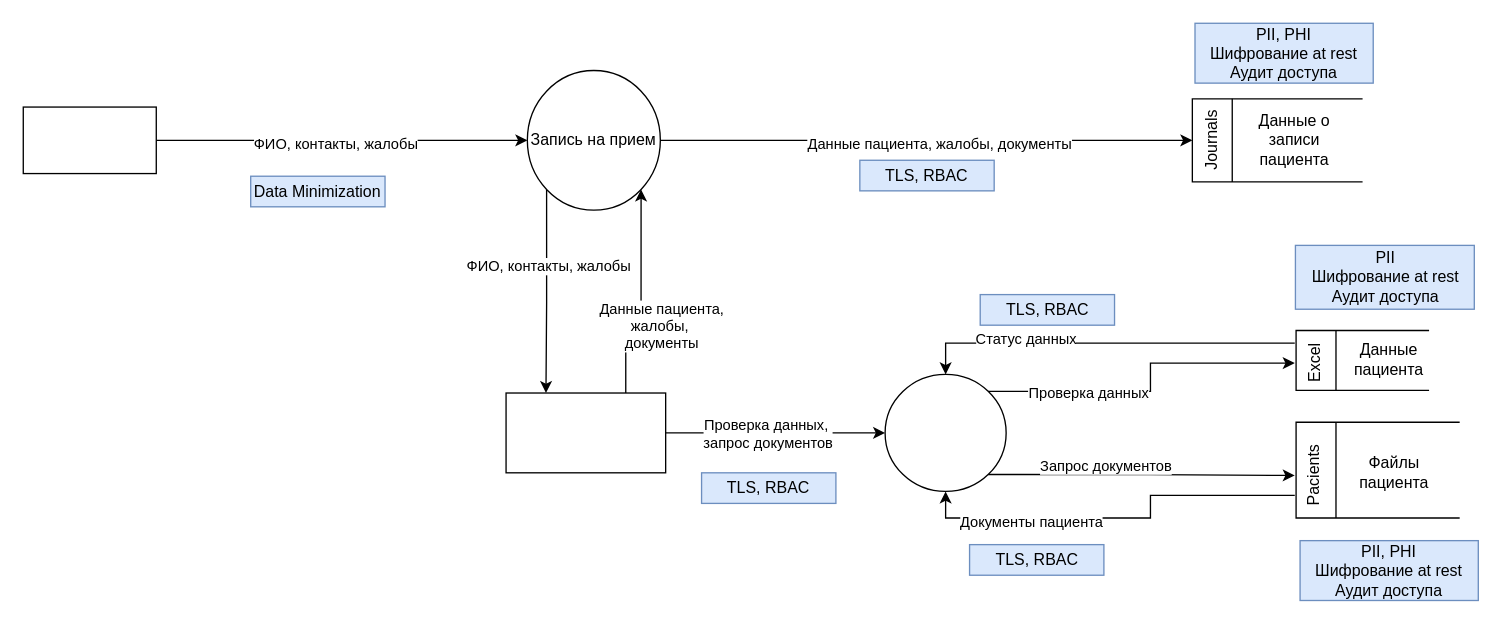
Some shapes in this 1502 by 624 pixel diagram are drawn without their labels. Each missing label, with the centre of its shape:
"Администратор" belongs at [585,432].
"Пациент" belongs at [89,140].
"Проверка данных пациента" belongs at [945,432].
